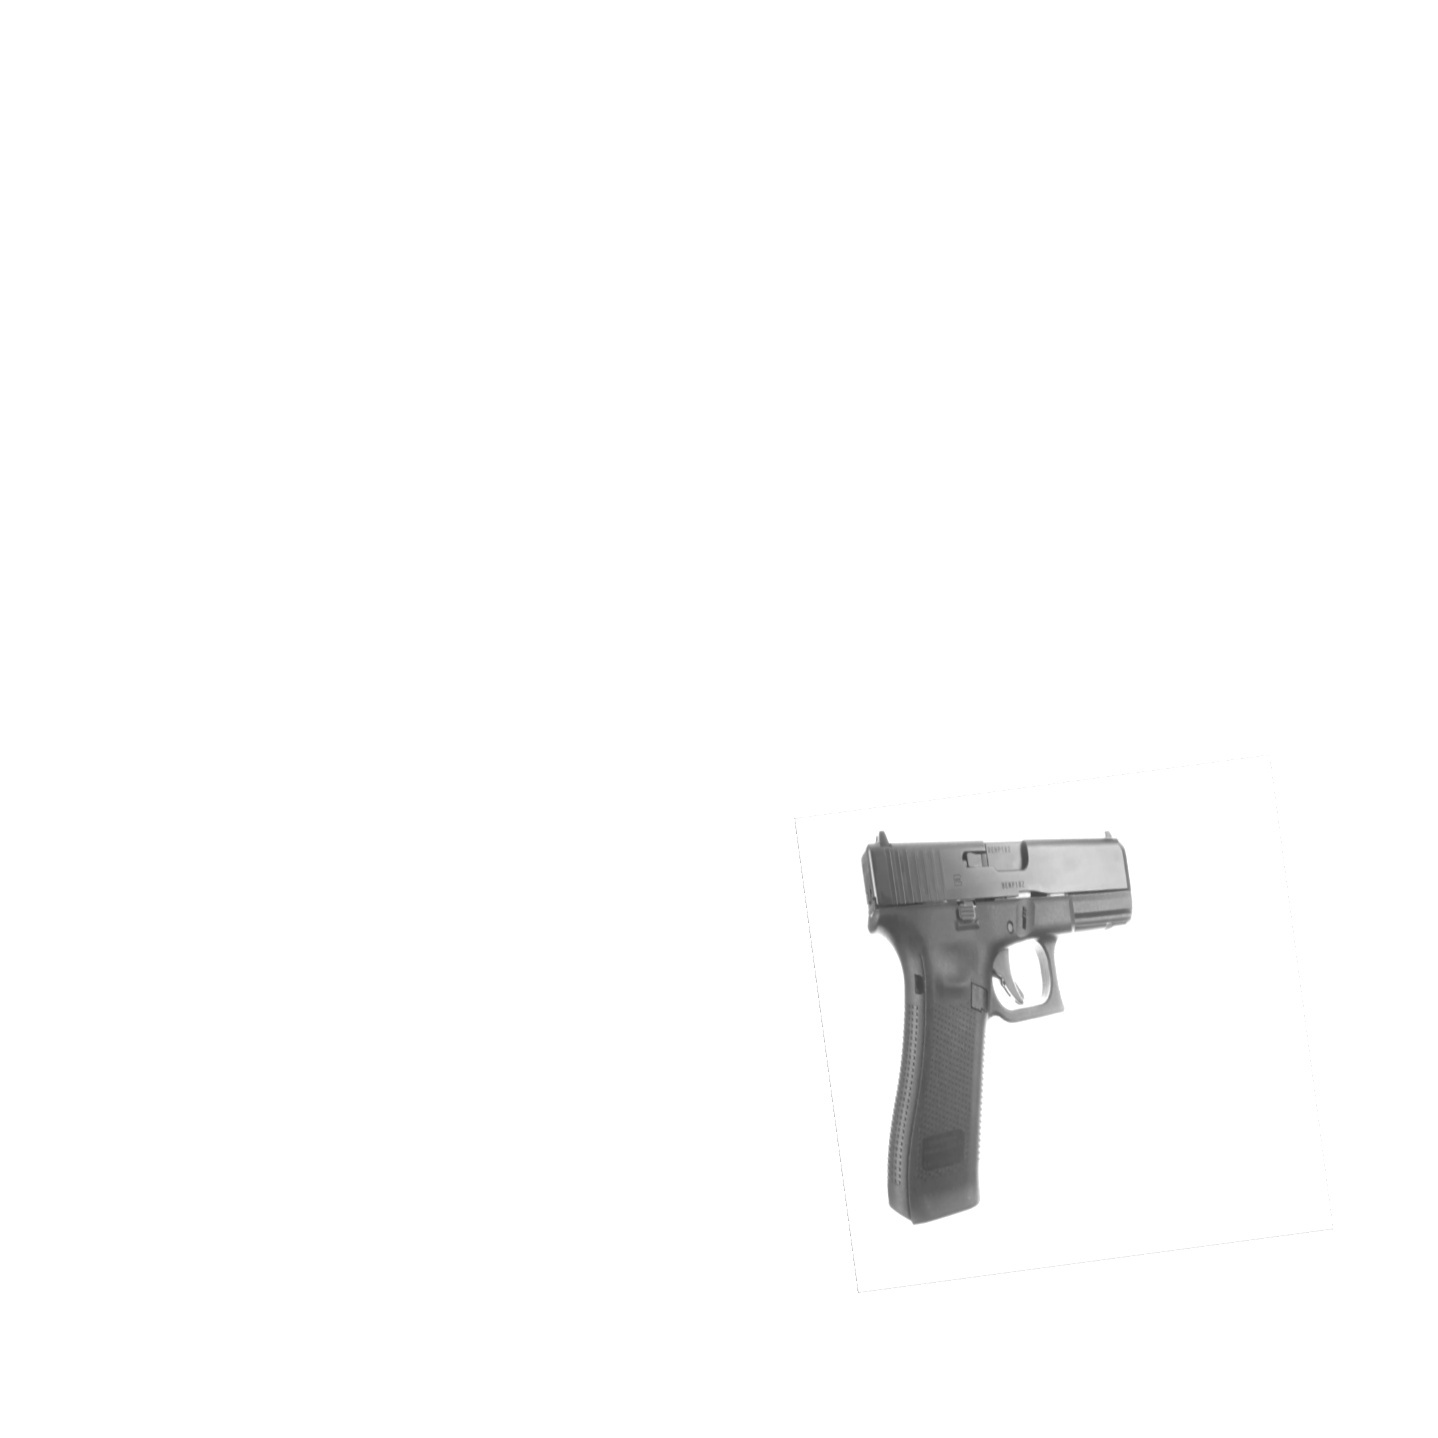gun: (861, 830, 1134, 1225)
